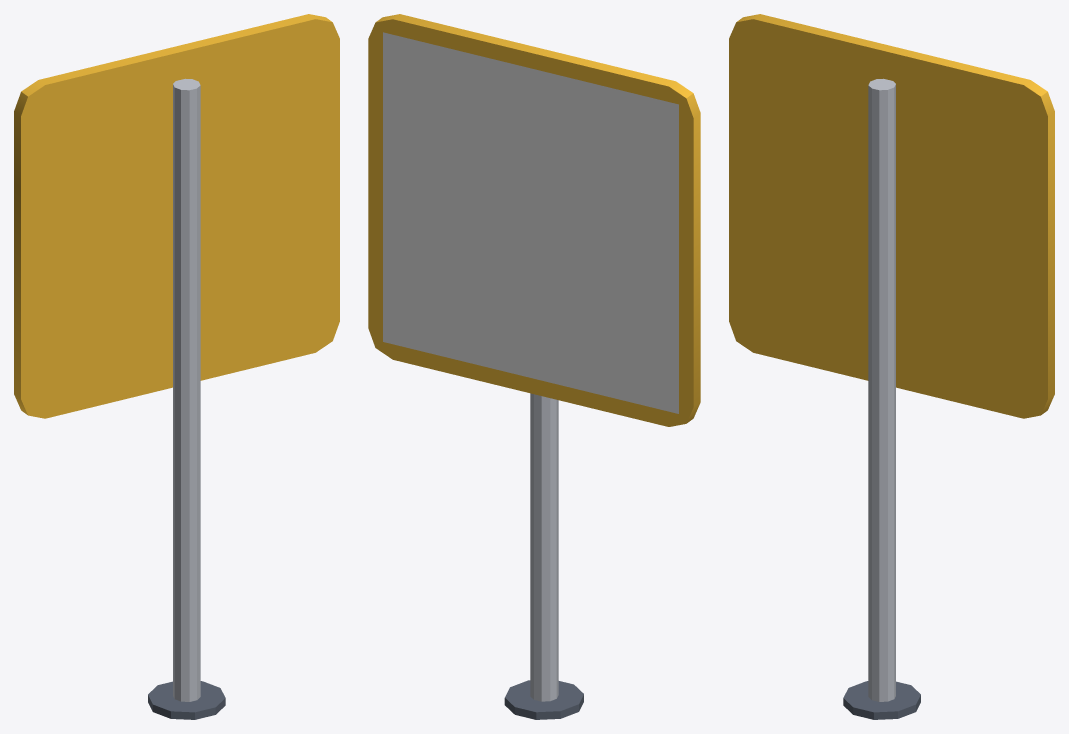
The model's file is SM_LanePost.glb.
3 renders of one model, left to right at view 1: azimuth 30°, elevation 25°; view 2: azimuth 150°, elevation 25°; view 3: azimuth 330°, elevation 25°, orthographic. The views are drawn at different scales.
Parts seen in each view (by area): view 1: SM_LanePost; view 2: SignFace, SM_LanePost; view 3: SM_LanePost.
Boxes of the visible parts, x1,y1,x2,y2 form: SM_LanePost: [14, 14, 339, 719]; SignFace: [383, 32, 678, 413]; SM_LanePost: [368, 14, 700, 719]; SM_LanePost: [729, 14, 1054, 719].
Bounding box in the file's own units: 1.32 × 2.56 × 0.2663.
2 materials, 1 textured.
